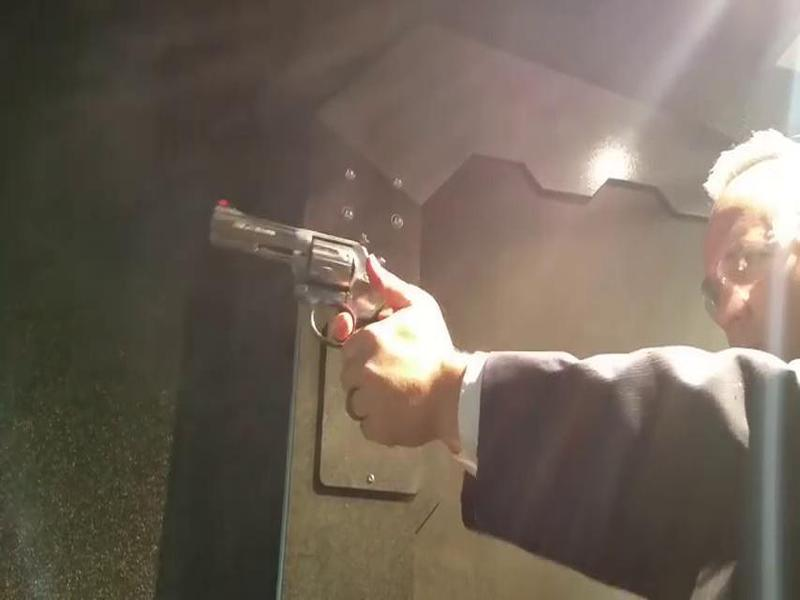Revolver: (191, 190, 416, 384)
